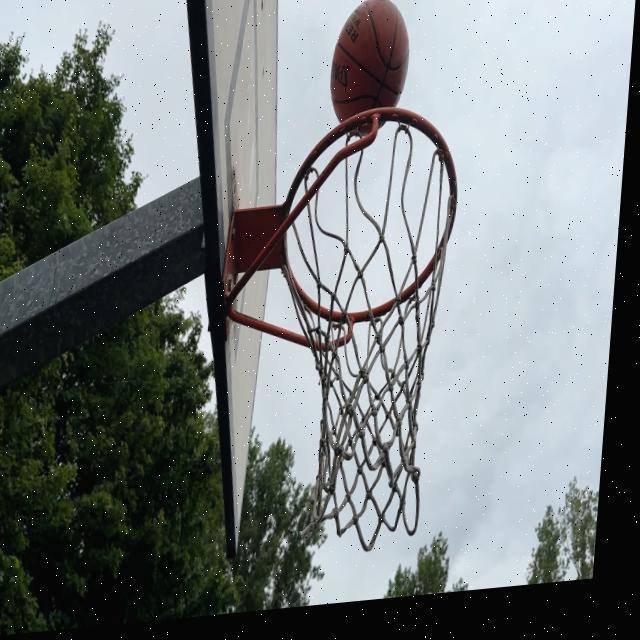rebound_hit: (325, 0, 416, 142)
